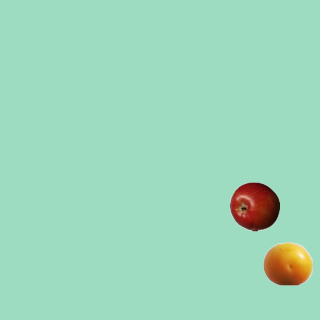Apple Braeburn: (229, 181, 279, 231)
Cherry Wax Yellow: (262, 238, 312, 288)
